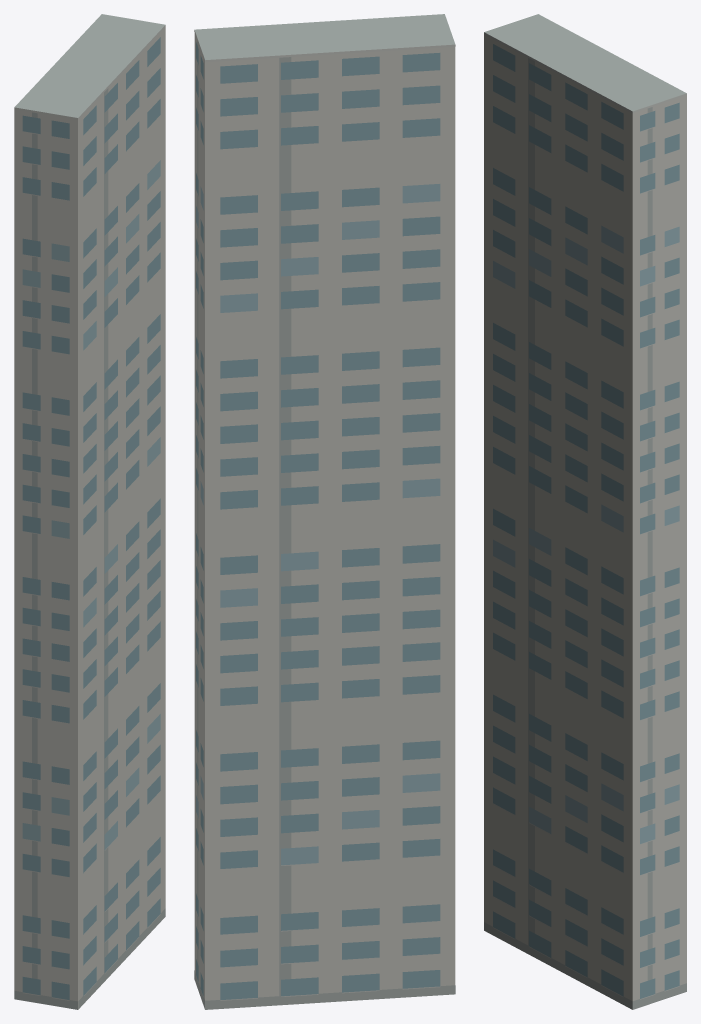
File: residential-bdfaca98-8433-4dad-9b2a-98e024975b3f.glb
The picture shows the model from 3 angles, left to right: view 1: azimuth 30°, elevation 25°; view 2: azimuth 150°, elevation 25°; view 3: azimuth 270°, elevation 25°; orthographic projection. The views are drawn at different scales.
Visible parts, largest first — view 1: residential-bdfaca98-8433-4dad-9b2a-98e024975b3f.tmp; view 2: residential-bdfaca98-8433-4dad-9b2a-98e024975b3f.tmp; view 3: residential-bdfaca98-8433-4dad-9b2a-98e024975b3f.tmp.
Part boxes in pixels (<box>): residential-bdfaca98-8433-4dad-9b2a-98e024975b3f.tmp: <box>14,14,165,1009</box>; residential-bdfaca98-8433-4dad-9b2a-98e024975b3f.tmp: <box>194,14,455,1009</box>; residential-bdfaca98-8433-4dad-9b2a-98e024975b3f.tmp: <box>484,14,686,1009</box>.
Bounding box in the file's own units: 24.43 × 105 × 21.49.
